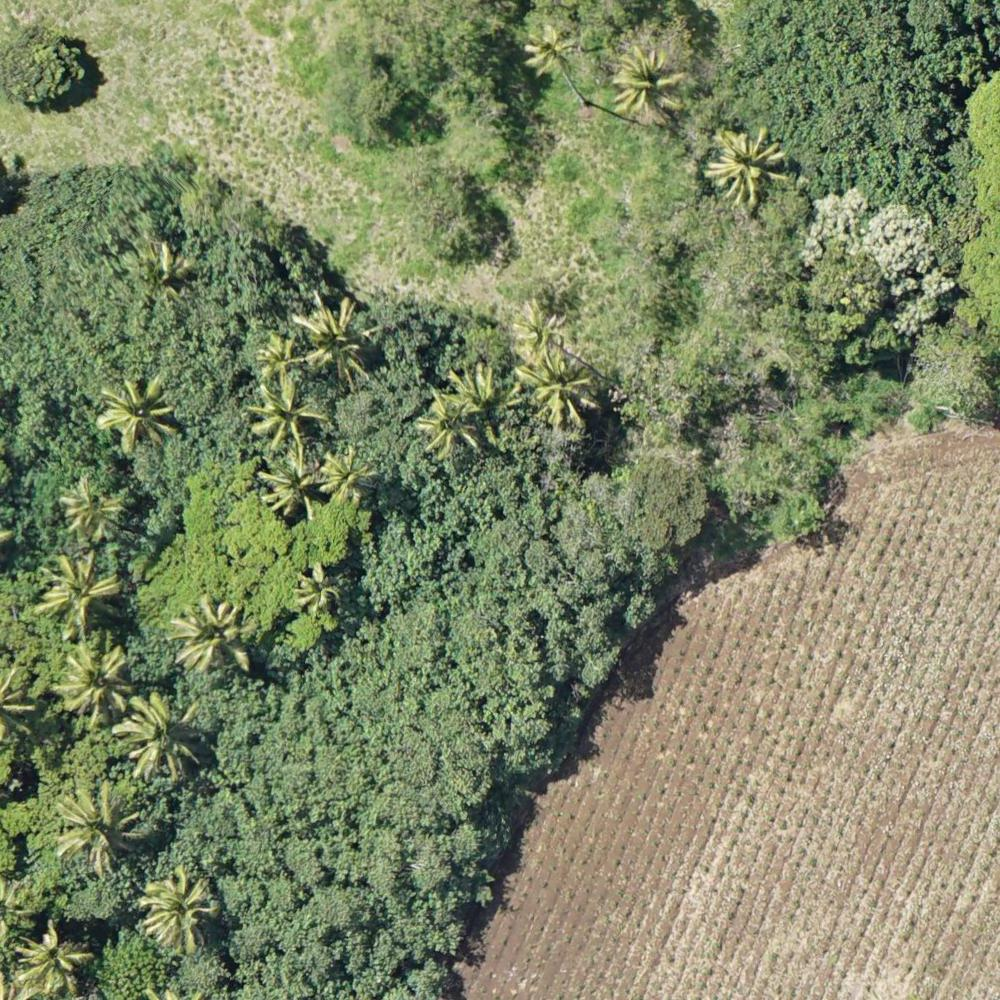Palm: (115, 689, 205, 782), (291, 293, 378, 381), (170, 597, 258, 683), (54, 644, 136, 727), (145, 869, 223, 956), (40, 555, 123, 634), (55, 788, 133, 871), (16, 921, 91, 999), (708, 129, 788, 201), (252, 379, 322, 457), (100, 381, 179, 450), (446, 366, 524, 434), (520, 359, 599, 425), (256, 449, 329, 517), (609, 49, 684, 114), (412, 392, 485, 456), (63, 482, 120, 542), (319, 448, 373, 507), (507, 299, 562, 356), (291, 562, 341, 615), (523, 27, 575, 74), (254, 334, 306, 381)
